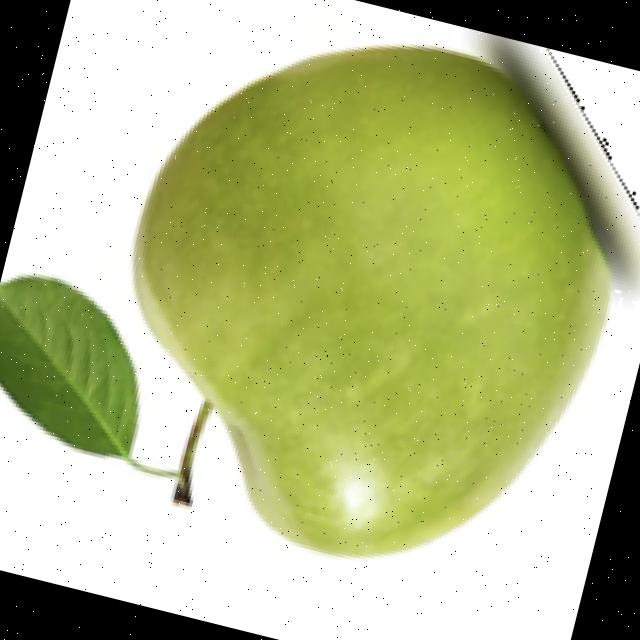apple: (0, 28, 640, 563)
